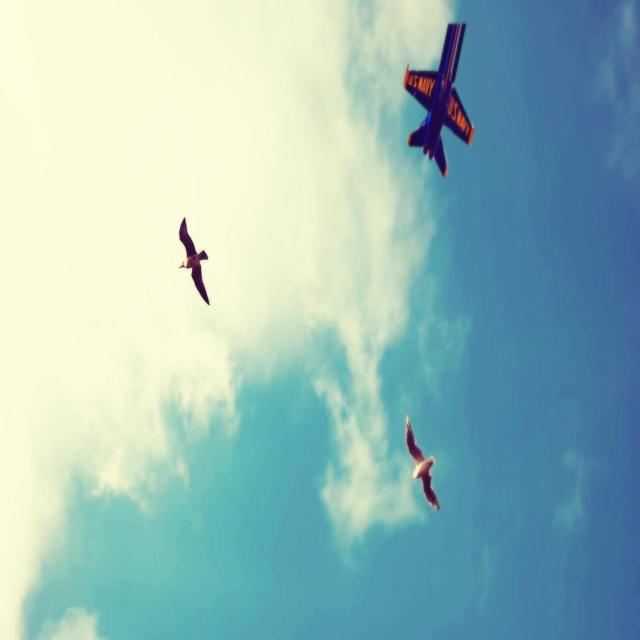airplane: (403, 21, 474, 177)
